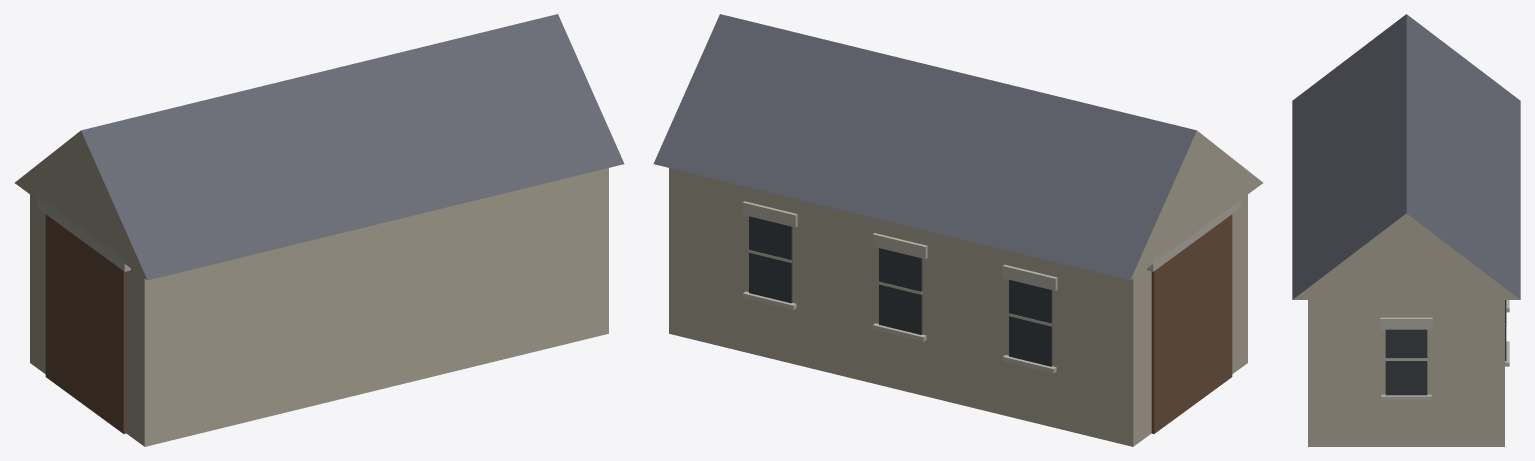
The model's file is shed_1834_1900_prairie__draft_1904.glb.
The picture shows the model from 3 angles, left to right: view 1: azimuth 30°, elevation 25°; view 2: azimuth 150°, elevation 25°; view 3: azimuth 270°, elevation 25°; orthographic projection. The views are drawn at different scales.
Parts seen in each view (by area): view 1: shed_1834_1900_prairie__draft_1904; view 2: shed_1834_1900_prairie__draft_1904; view 3: shed_1834_1900_prairie__draft_1904.
Boxes of the visible parts, x1,y1,x2,y2 form: shed_1834_1900_prairie__draft_1904: (15,14,624,446); shed_1834_1900_prairie__draft_1904: (653,14,1262,446); shed_1834_1900_prairie__draft_1904: (1292,14,1520,446).
Bounding box in the file's own units: 8.99 × 4.97 × 4.35.
